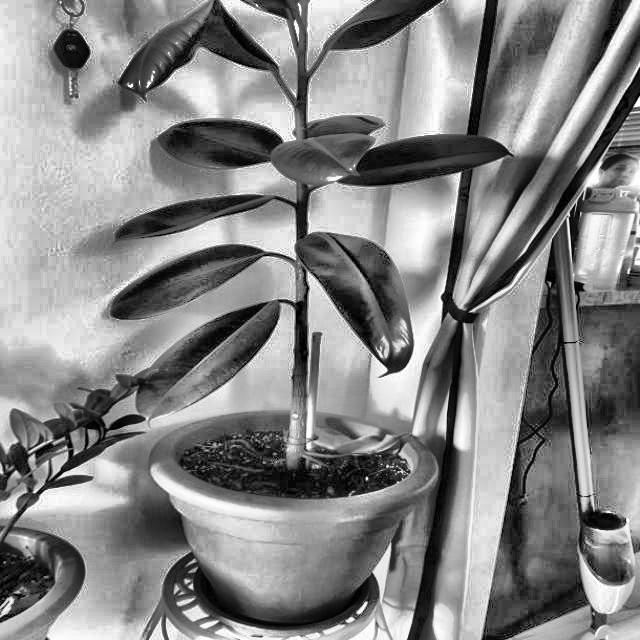plants: (170, 0, 449, 602), (0, 402, 105, 640)
